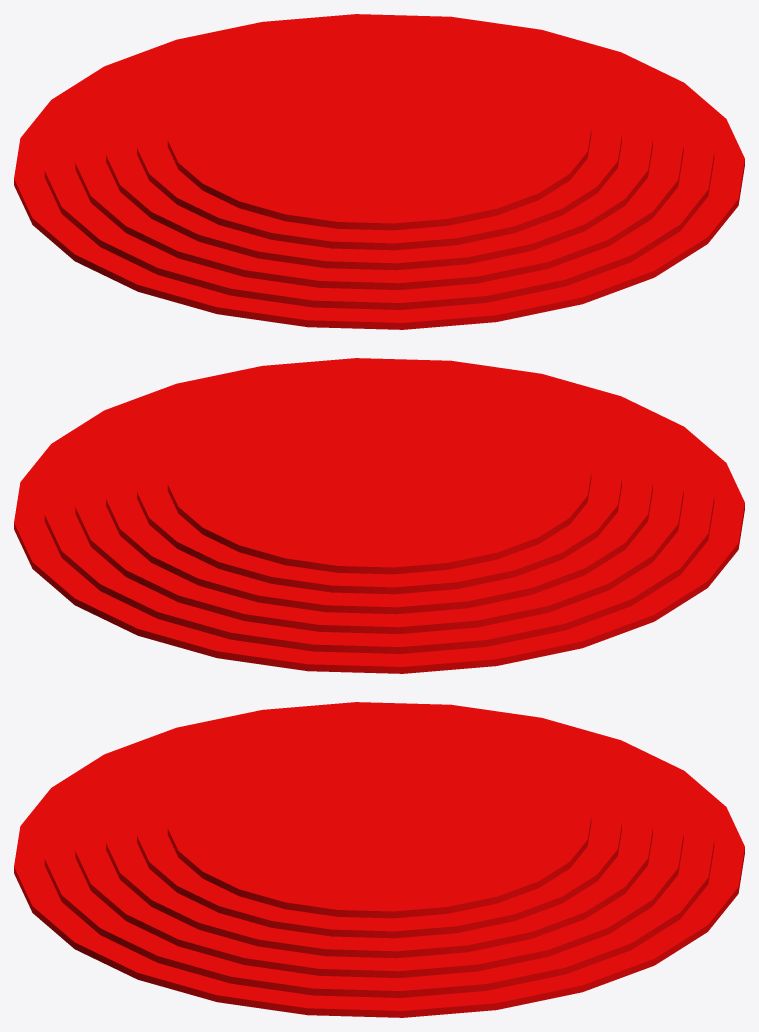
The model's file is Clay.fbx.
3 renders of one model, top to bottom at view 1: azimuth 30°, elevation 25°; view 2: azimuth 150°, elevation 25°; view 3: azimuth 270°, elevation 25°, orthographic.
Visible parts, largest first — view 1: Model; view 2: Model; view 3: Model.
Boxes of the visible parts, x1,y1,x2,y2 form: Model: (14, 14, 744, 329); Model: (14, 358, 744, 673); Model: (14, 702, 744, 1017).
Size of the model in its own units: 23.95 by 1.5 by 23.95.
